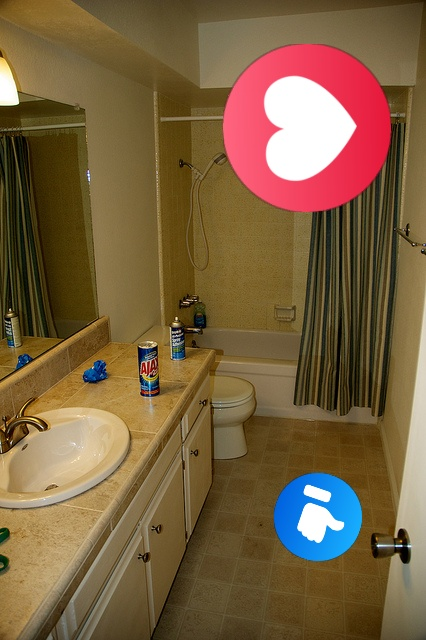like: (274, 473, 362, 561)
love: (223, 44, 391, 212)
